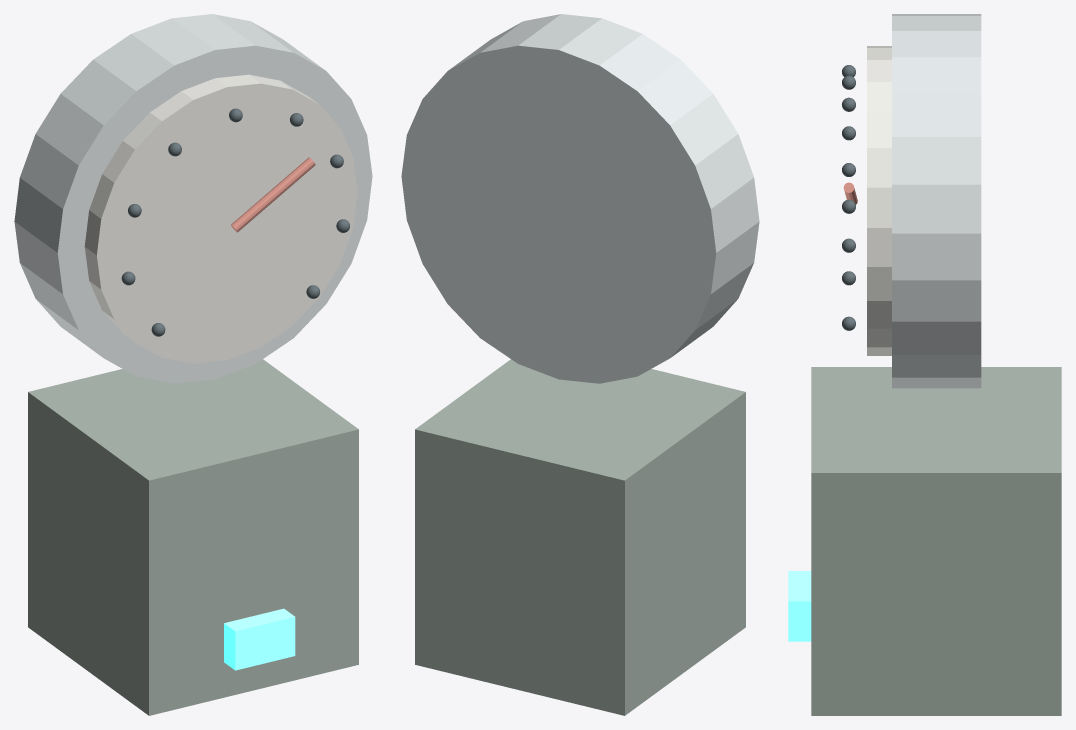
The model's file is s7-i02-pressure-gauge.glb.
The picture shows the model from 3 angles, left to right: view 1: azimuth 30°, elevation 25°; view 2: azimuth 150°, elevation 25°; view 3: azimuth 270°, elevation 25°; orthographic projection. The views are drawn at different scales.
Visible parts, largest first — view 1: 000_gauge_sensor_body, 002_dial_back, 001_dial_housing, 014_sensor_status, 003_red_pressure_needle; view 2: 001_dial_housing, 000_gauge_sensor_body; view 3: 000_gauge_sensor_body, 001_dial_housing, 002_dial_back, 014_sensor_status.
Boxes of the visible parts, x1,y1,x2,y2 form: 000_gauge_sensor_body: (28,359,358,715); 002_dial_back: (84,74,357,363); 001_dial_housing: (14,14,372,383); 014_sensor_status: (224,608,295,670); 003_red_pressure_needle: (231,157,315,232); 001_dial_housing: (401,14,759,383); 000_gauge_sensor_body: (415,359,745,715); 000_gauge_sensor_body: (811,367,1061,715); 001_dial_housing: (892,14,981,388); 002_dial_back: (867,46,891,355); 014_sensor_status: (788,571,811,641).
Bounding box in the file's own units: 0.21 × 0.39 × 0.153.
